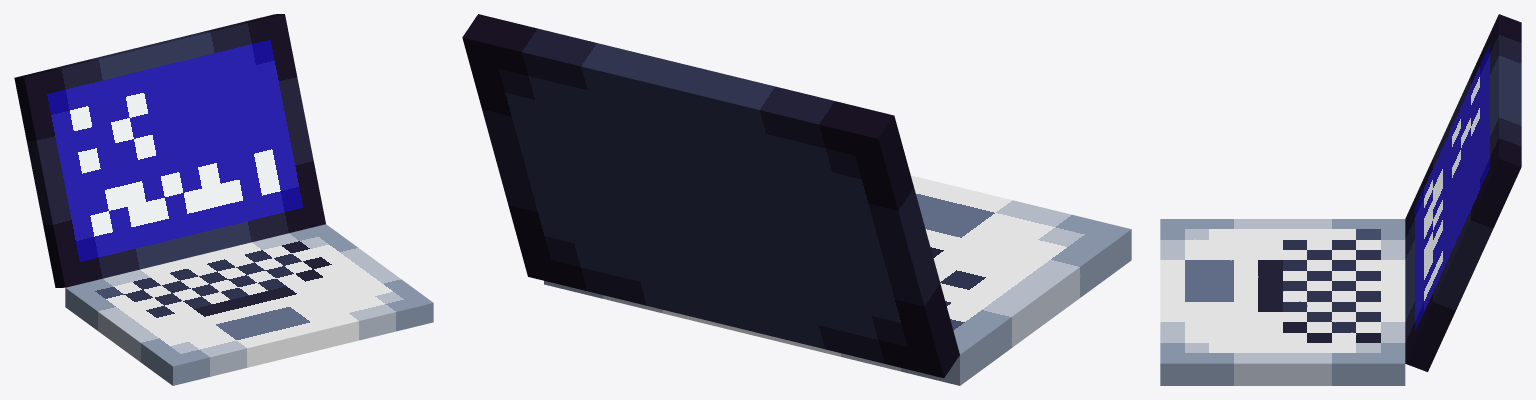
The model's file is laptop_v2.glb.
3 renders of one model, left to right at view 1: azimuth 30°, elevation 25°; view 2: azimuth 150°, elevation 25°; view 3: azimuth 270°, elevation 25°, orthographic. The views are drawn at different scales.
Visible parts, largest first — view 1: bfe21660-b872-bb20-156f-5965c498a815_1, 17706f4a-b4b7-89c0-20f1-1ee4ebfa8f1a_2; view 2: bfe21660-b872-bb20-156f-5965c498a815_1, 17706f4a-b4b7-89c0-20f1-1ee4ebfa8f1a_2; view 3: 17706f4a-b4b7-89c0-20f1-1ee4ebfa8f1a_2, bfe21660-b872-bb20-156f-5965c498a815_1.
Boxes of the visible parts, x1,y1,x2,y2 form: bfe21660-b872-bb20-156f-5965c498a815_1: (14,14,325,287); 17706f4a-b4b7-89c0-20f1-1ee4ebfa8f1a_2: (65,224,433,385); bfe21660-b872-bb20-156f-5965c498a815_1: (462,14,959,378); 17706f4a-b4b7-89c0-20f1-1ee4ebfa8f1a_2: (544,175,1131,385); 17706f4a-b4b7-89c0-20f1-1ee4ebfa8f1a_2: (1160,219,1405,385); bfe21660-b872-bb20-156f-5965c498a815_1: (1405,14,1521,371).
Size of the model in its own units: 0.875 by 0.6399 by 0.9219.
4 materials, 4 textured.
